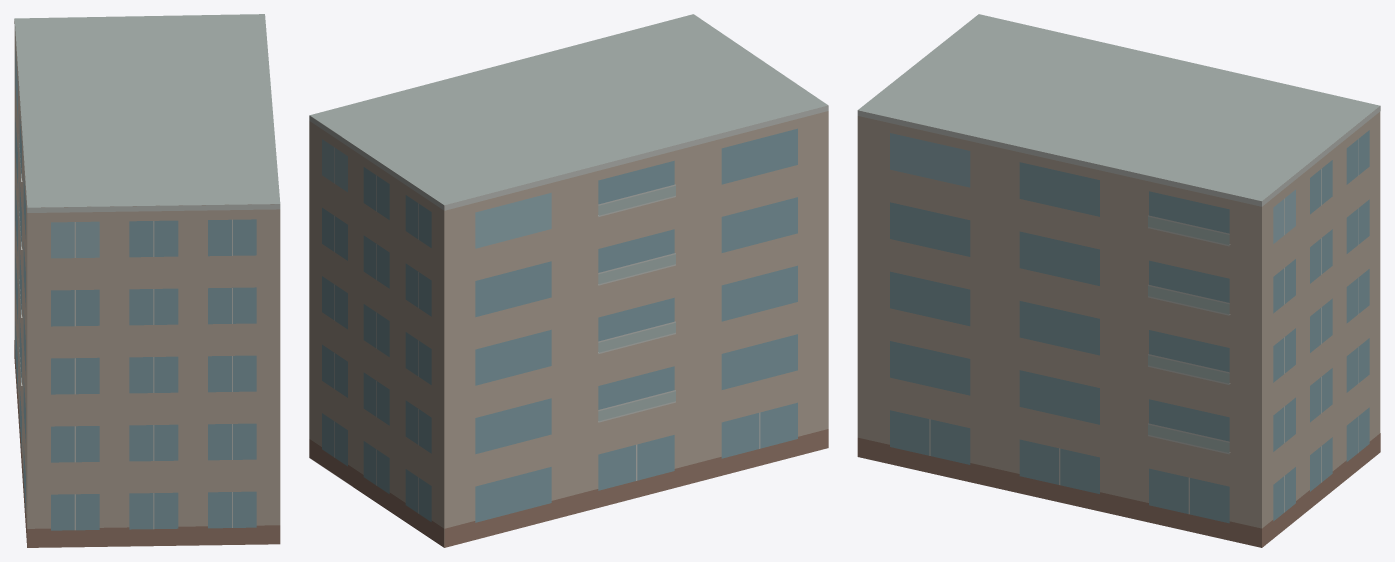
The model's file is survey-upis-32872819.glb.
3 renders of one model, left to right at view 1: azimuth 30°, elevation 25°; view 2: azimuth 150°, elevation 25°; view 3: azimuth 270°, elevation 25°, orthographic.
Visible parts, largest first — view 1: survey-upis-32872819.tmp; view 2: survey-upis-32872819.tmp; view 3: survey-upis-32872819.tmp.
Part boxes in pixels (bbox=[...]): survey-upis-32872819.tmp: bbox=[14, 14, 280, 547]; survey-upis-32872819.tmp: bbox=[309, 14, 828, 547]; survey-upis-32872819.tmp: bbox=[857, 14, 1380, 547].
Size of the model in its own units: 17.68 by 15.25 by 20.86.
